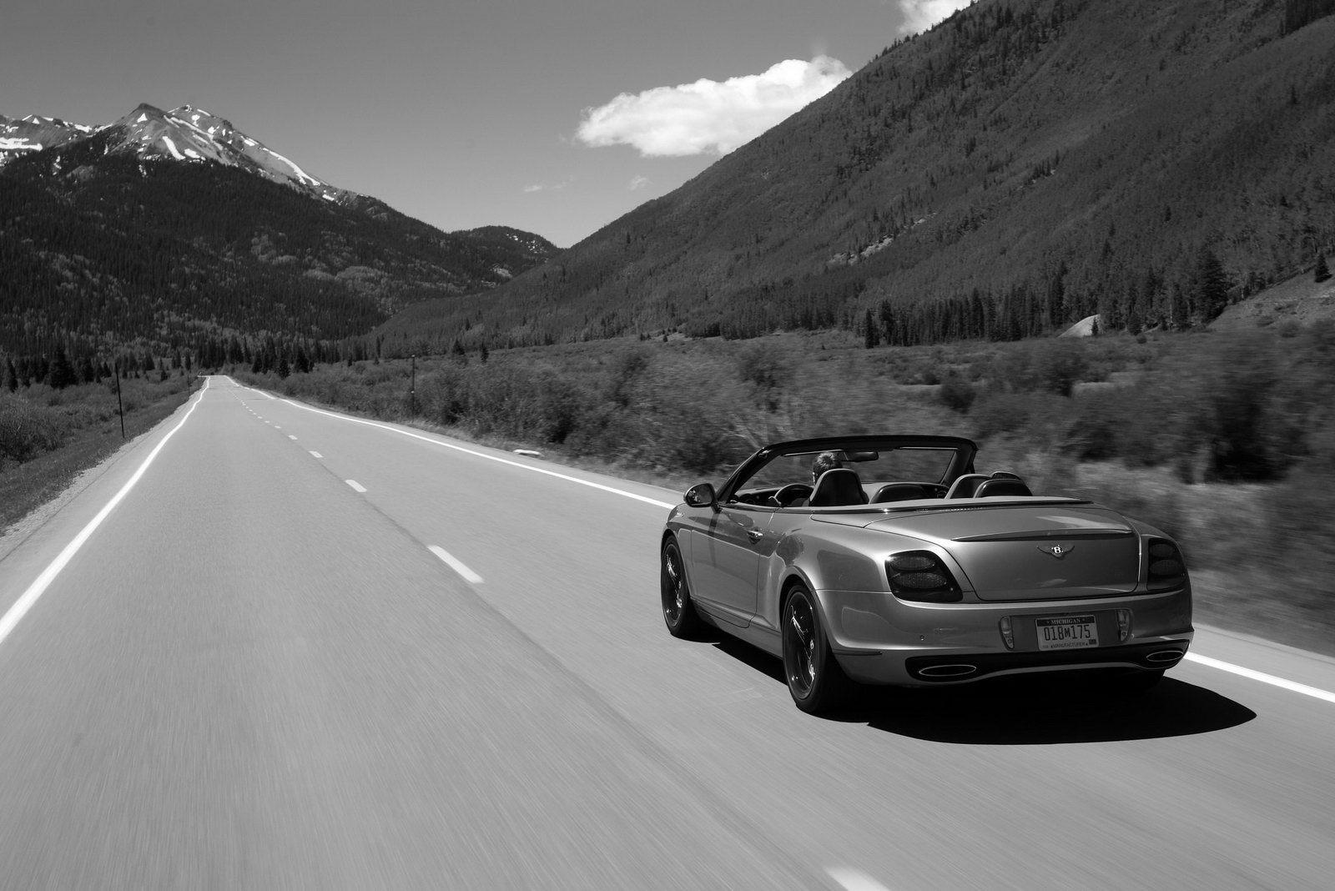car: (656, 429, 1204, 742)
